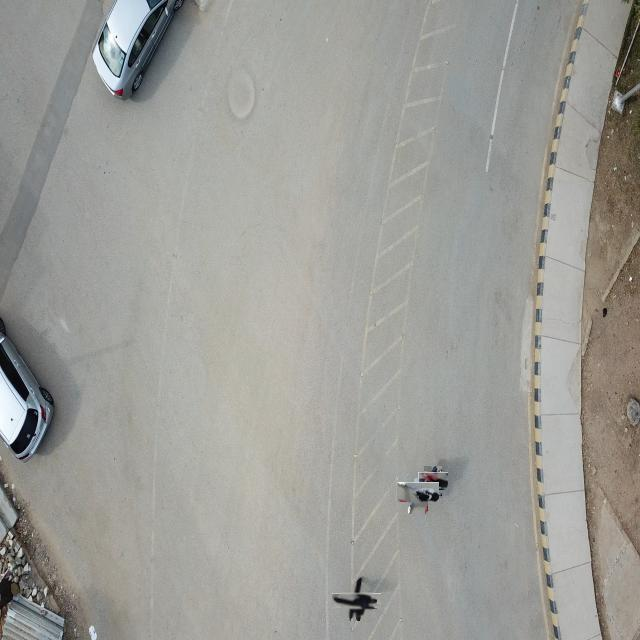Manusia: (341, 585, 374, 618), (402, 477, 435, 509), (421, 469, 446, 494)
